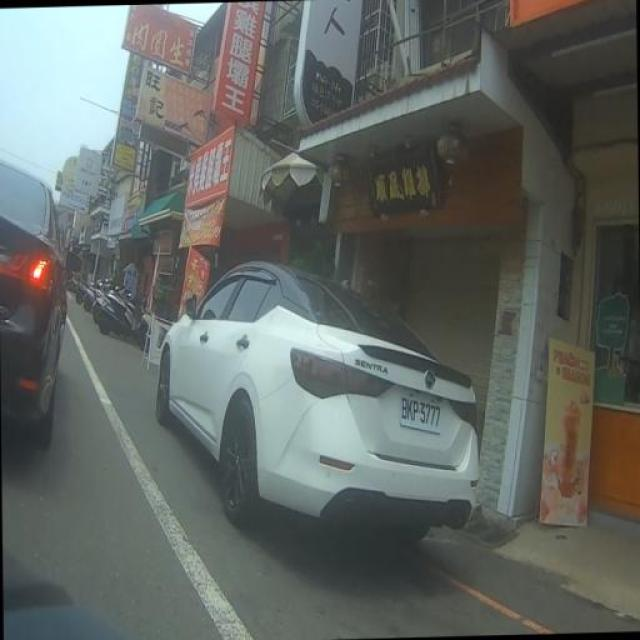illegalparking: (144, 244, 523, 586)
